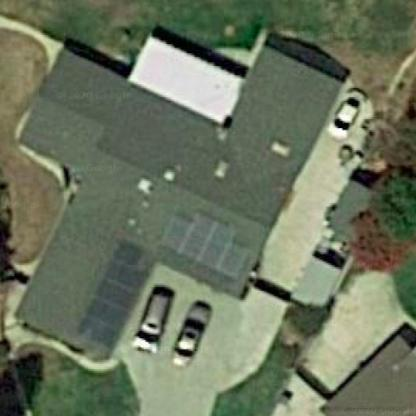car: (172, 294, 213, 374), (132, 284, 168, 361), (327, 91, 369, 142)
solar_panel: (87, 216, 150, 351), (157, 199, 249, 282)
